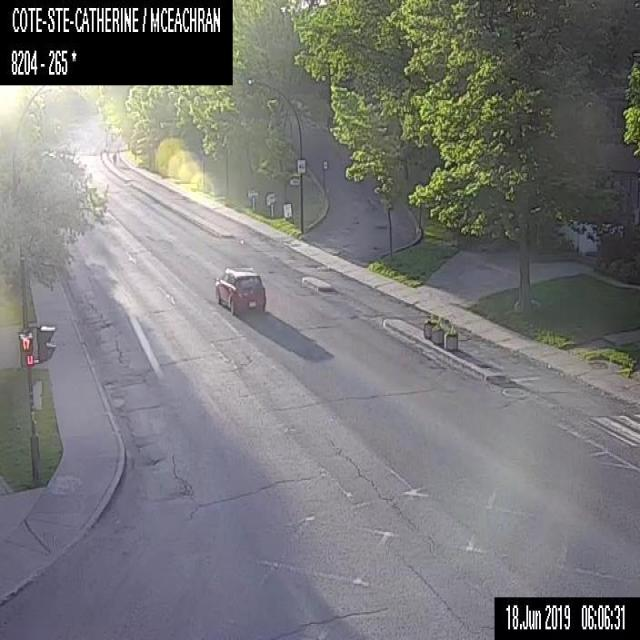vehicle: (213, 265, 265, 315)
